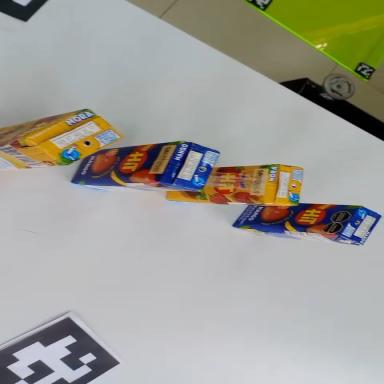HIT-MANGO: (71, 140, 220, 194), (233, 200, 381, 246)
HIT-MORA: (0, 104, 124, 174), (167, 164, 303, 206)
cara_F: (71, 141, 182, 184), (232, 200, 361, 236), (165, 165, 272, 208), (0, 100, 90, 147)
